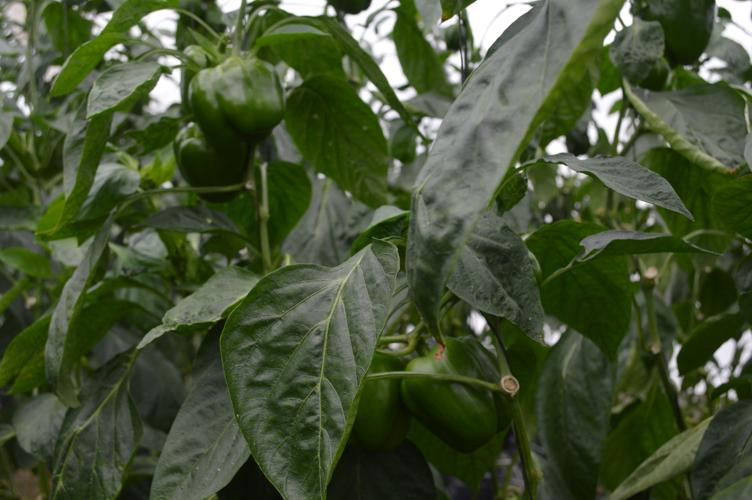BellPepper: (410, 338, 512, 446), (188, 57, 284, 136), (346, 351, 406, 446), (171, 126, 244, 201)
